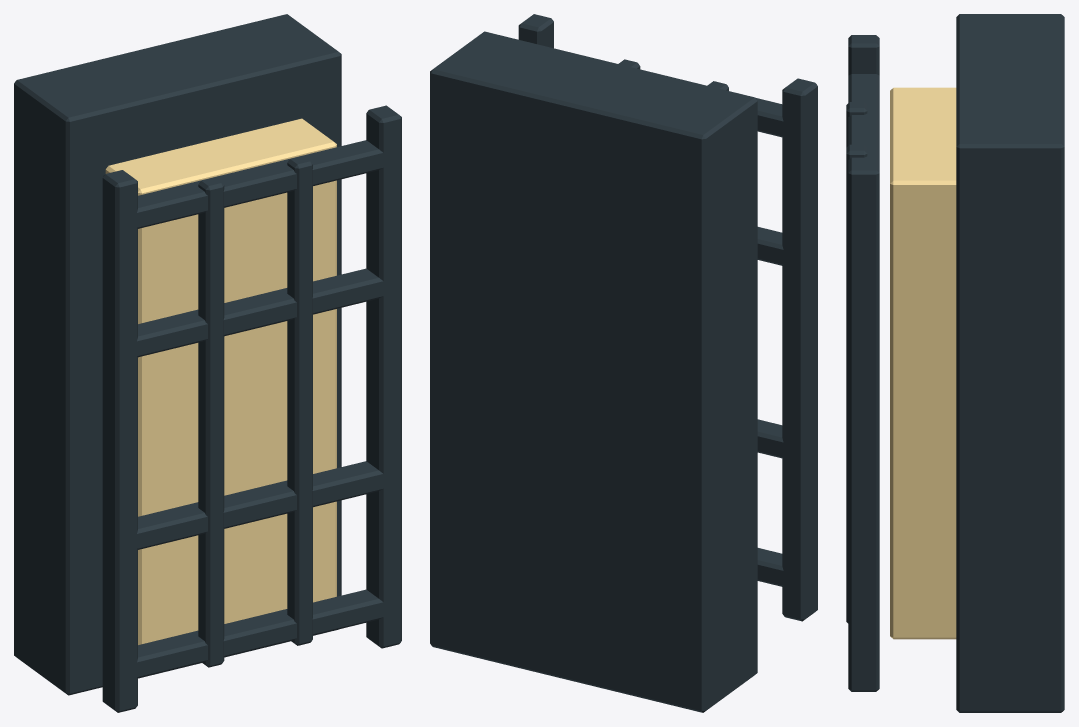
The model's file is b18_rectangular_caged_wall_light.glb.
3 renders of one model, left to right at view 1: azimuth 30°, elevation 25°; view 2: azimuth 150°, elevation 25°; view 3: azimuth 270°, elevation 25°, orthographic.
Parts seen in each view (by area): view 1: b18_rectangular_caged_wall_light; view 2: b18_rectangular_caged_wall_light; view 3: b18_rectangular_caged_wall_light.
Boxes of the visible parts, x1,y1,x2,y2 form: b18_rectangular_caged_wall_light: (14, 14, 401, 712); b18_rectangular_caged_wall_light: (430, 14, 817, 712); b18_rectangular_caged_wall_light: (846, 14, 1064, 712).
Size of the model in its own units: 0.187 by 0.36 by 0.125.
